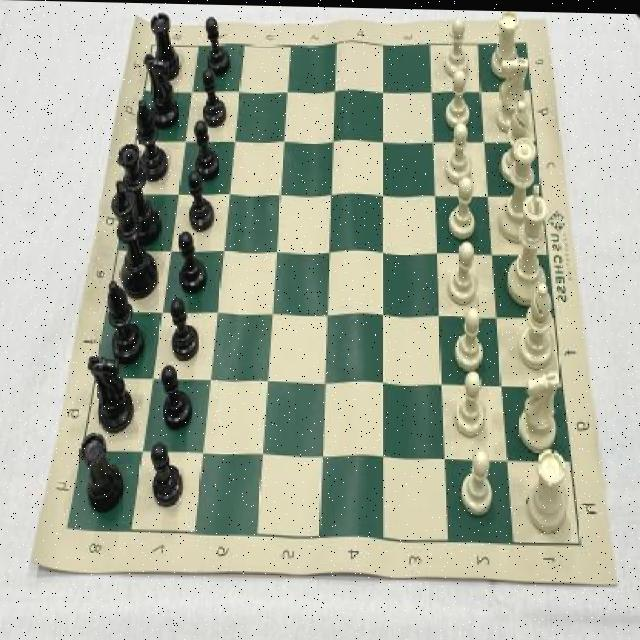bishop: (106, 277, 145, 362), (135, 99, 169, 179)
black-bishop: (110, 179, 158, 299)
black-king: (86, 352, 134, 432), (144, 54, 180, 127)
black-knight: (150, 441, 185, 507), (158, 364, 191, 430), (170, 294, 200, 362), (178, 232, 209, 293), (186, 169, 214, 233), (193, 117, 220, 179), (205, 15, 232, 75), (202, 65, 228, 127)
black-pawn: (116, 144, 160, 242)
black-queen: (77, 432, 123, 514), (148, 13, 180, 78)
black-rook: (520, 280, 556, 367), (501, 100, 534, 183)
white-bishop: (508, 181, 550, 303)
white-king: (519, 366, 563, 450), (495, 53, 529, 129)
white-knight: (452, 369, 492, 436), (460, 448, 496, 516), (454, 306, 488, 370), (444, 175, 478, 239), (446, 240, 479, 305), (442, 15, 471, 79), (443, 123, 471, 184), (442, 69, 471, 127)
white-pawn: (499, 132, 540, 241)
white-queen: (526, 442, 569, 532), (491, 9, 522, 76)
